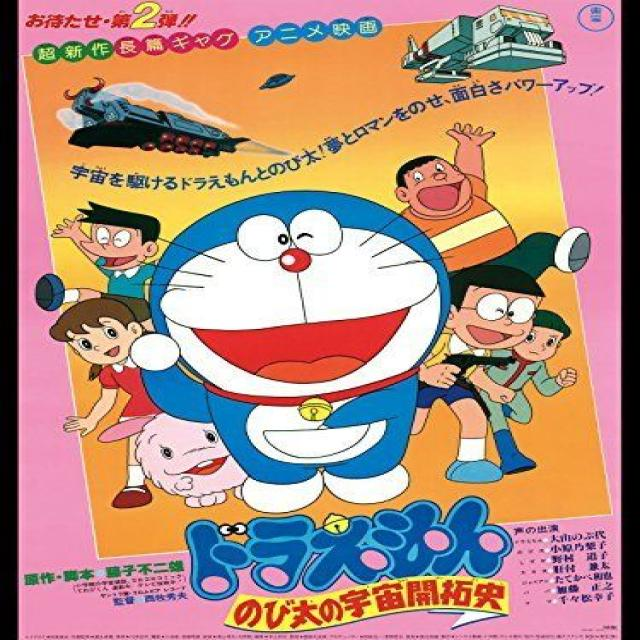doraemon: (147, 190, 452, 418)
jaian: (389, 150, 473, 215)
nobita: (438, 260, 544, 353)
shizuka: (44, 292, 147, 375)
suneo: (65, 196, 165, 276)
